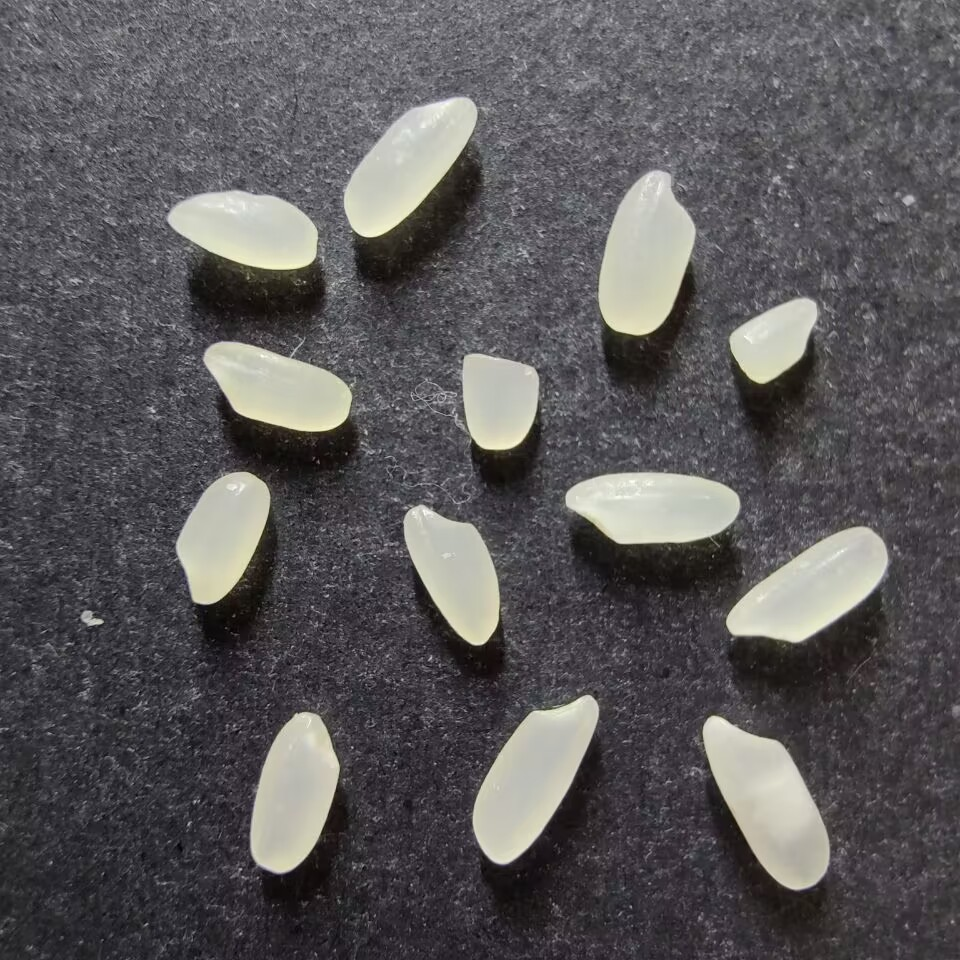broken: (728, 297, 818, 384), (461, 351, 539, 451)
rice: (701, 715, 830, 890), (471, 693, 599, 865), (725, 525, 888, 644), (342, 96, 478, 237), (597, 170, 696, 336), (249, 711, 339, 874), (402, 504, 500, 646), (202, 341, 352, 431), (563, 471, 740, 546), (174, 470, 270, 605), (165, 190, 319, 270)
